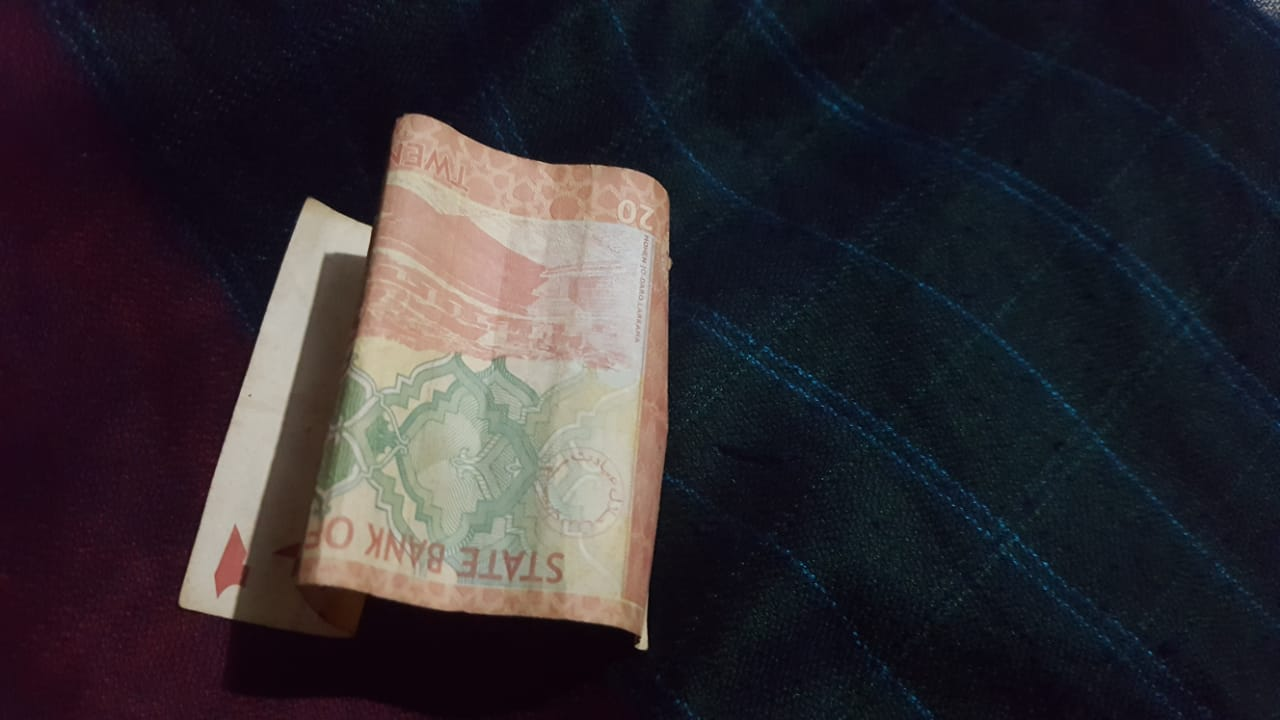20 rupee: (183, 94, 748, 658)
